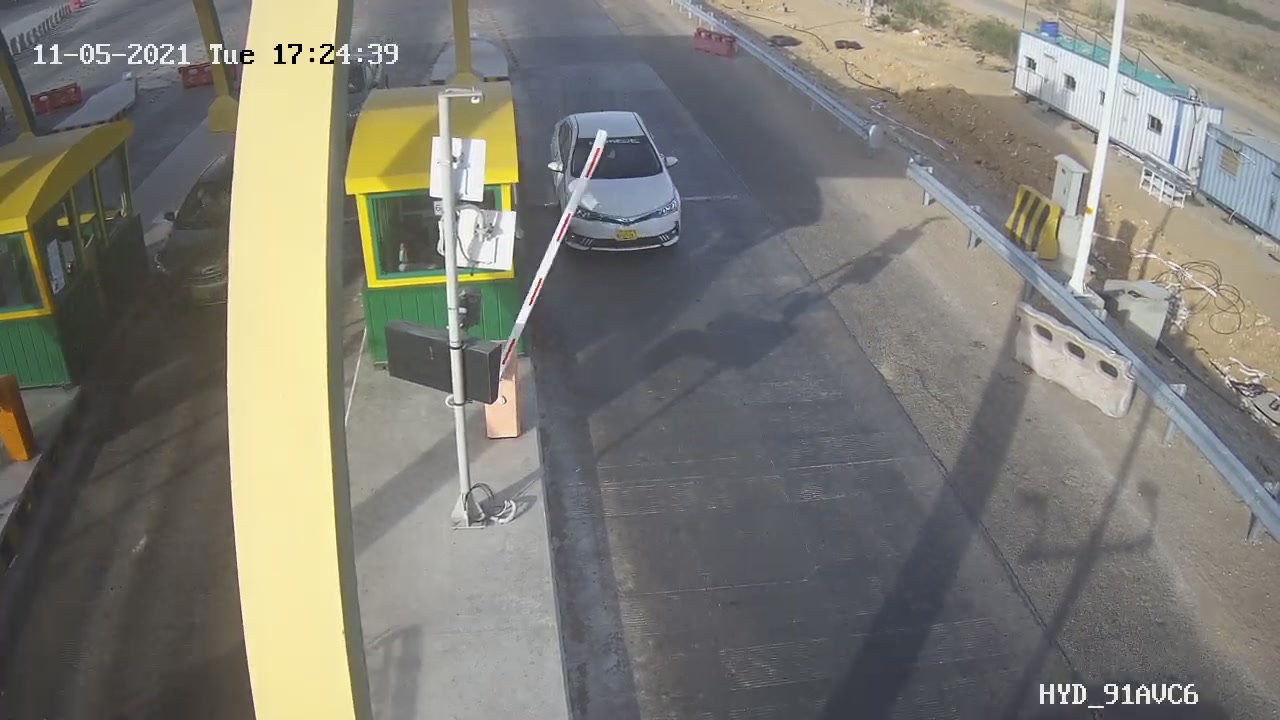F1: (530, 96, 707, 268)
